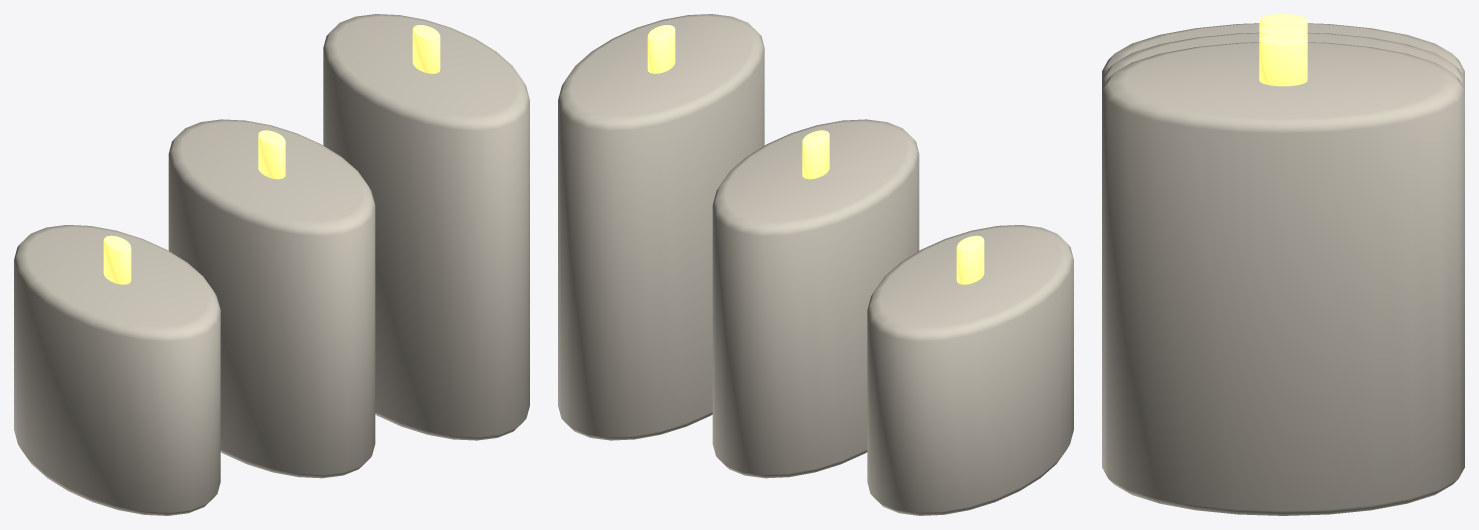
File: candle-trio.glb
3 views of the same model, side by side, from view 1: azimuth 30°, elevation 25°; view 2: azimuth 150°, elevation 25°; view 3: azimuth 270°, elevation 25° (orthographic). The views are drawn at different scales.
Parts seen in each view (by area): view 1: candle-trio; view 2: candle-trio; view 3: candle-trio.
Part boxes in pixels (<box>): candle-trio: <box>14,14,529,515</box>; candle-trio: <box>558,14,1073,515</box>; candle-trio: <box>1102,14,1464,515</box>.
Bounding box in the file's own units: 0.32 × 0.24 × 0.18.
